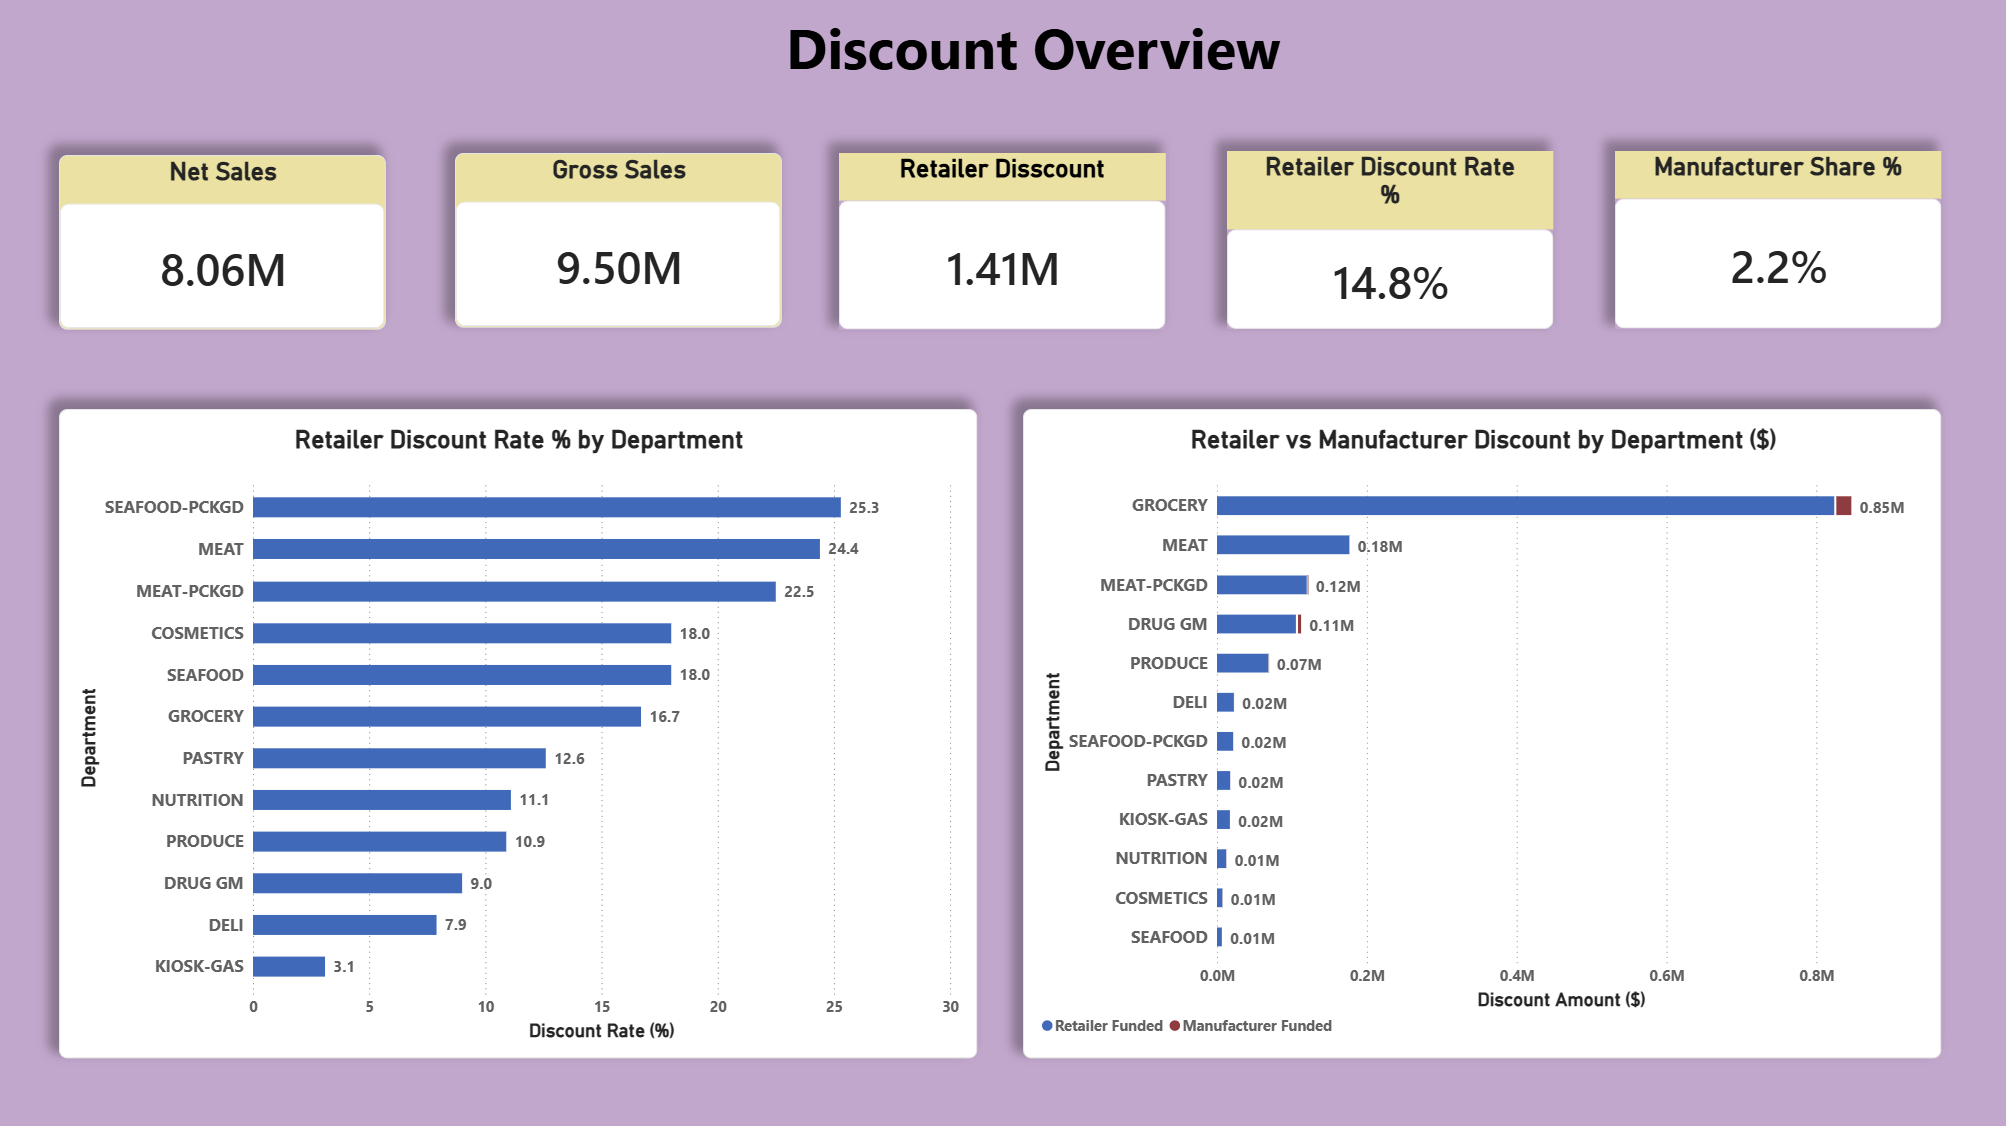

What the dashboard file says about the page in this screenshot:
{"tool":"powerbi","page":{"name":"Page 1","canvas":[1920,1080],"ordinal":0},"visuals":[{"type":"cardVisual","title":"Net Sales","fields":{"Data":["dept_summary.Net Sales"]},"box":[58,150,312.3,167.1],"z":0},{"type":"cardVisual","title":"Gross Sales","fields":{"Data":["dept_summary.Gross Sales"]},"box":[436,148,312.3,167.1],"z":1000},{"type":"cardVisual","title":"Retailer Disscount","fields":{"Data":["dept_summary.Retailer Discount"]},"box":[804,148,312.3,169.1],"z":2000},{"type":"cardVisual","title":"Retailer Discount Rate %","fields":{"Data":["dept_summary.Retailer Discount Rate"]},"box":[1174,146,312,170],"z":3000},{"type":"cardVisual","title":"Manufacturer Share %","fields":{"Data":["dept_summary.Manufacturer Share"]},"box":[1546,146,312,170],"z":4000},{"type":"clusteredBarChart","title":"Retailer Discount Rate % by Department","fields":{"Category":["dept_summary.department"],"Y":["Avg(dept_summary.retailer_disc_rate_pct)"]},"box":[58,392,878,620],"z":5000},{"type":"barChart","title":"Retailer vs Manufacturer Discount by Department ($)","fields":{"Category":["dept_summary.department"],"Y":["Sum(dept_summary.retailer_disc)","Sum(dept_summary.mfr_disc)"]},"box":[980,392,878,620],"z":6000},{"type":"textbox","box":[56.9,8.8,1863.1,87.6],"z":7000}]}

Visuals, with their boxes in screenshot pixels (x1, y1, x2, y2), scaled from the page's 1920x1080 canvas onto the 2006x1126 screenshot:
"Net Sales" cardVisual: {"x1": 61, "y1": 156, "x2": 387, "y2": 331}
"Gross Sales" cardVisual: {"x1": 456, "y1": 154, "x2": 782, "y2": 329}
"Retailer Disscount" cardVisual: {"x1": 840, "y1": 154, "x2": 1166, "y2": 331}
"Retailer Discount Rate %" cardVisual: {"x1": 1227, "y1": 152, "x2": 1553, "y2": 329}
"Manufacturer Share %" cardVisual: {"x1": 1615, "y1": 152, "x2": 1941, "y2": 329}
"Retailer Discount Rate % by Department" clusteredBarChart: {"x1": 61, "y1": 409, "x2": 978, "y2": 1055}
"Retailer vs Manufacturer Discount by Department ($)" barChart: {"x1": 1024, "y1": 409, "x2": 1941, "y2": 1055}
textbox: {"x1": 59, "y1": 9, "x2": 2005, "y2": 101}
